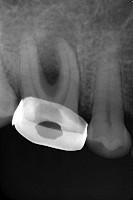Dental Caries: (36, 10, 78, 86)
